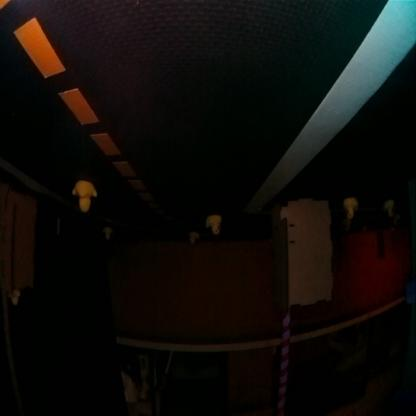Duckie: (73, 183, 97, 213), (204, 218, 221, 236), (342, 200, 356, 220), (382, 200, 395, 218), (8, 291, 20, 307), (101, 227, 112, 241), (188, 232, 198, 245)
